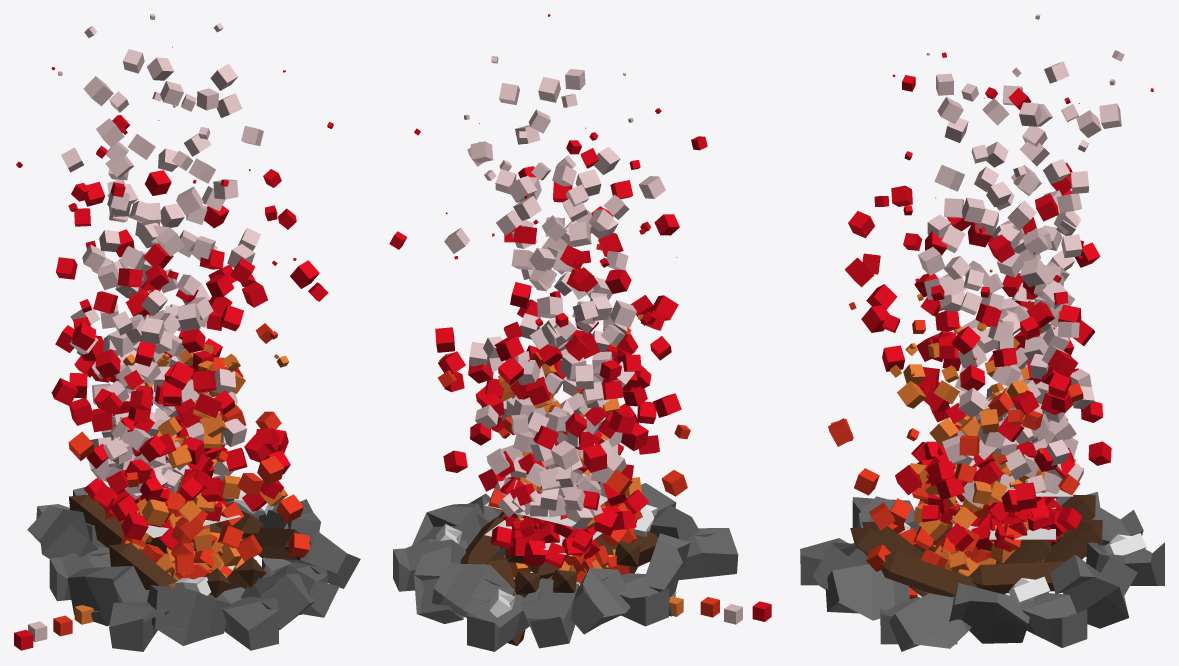
Rendered from FogataLP2.0.fbx.
3 views of the same model, side by side, from view 1: azimuth 30°, elevation 25°; view 2: azimuth 150°, elevation 25°; view 3: azimuth 270°, elevation 25° (orthographic). The views are drawn at different scales.
Visible parts, largest first — view 1: Cubo.017, Cubo.015, Cubo.004, Cubo.013, Cubo.016, Cubo.005, Cubo.007, Cubo.014, Cubo.029, Cubo.025, Cubo.006, Cubo.028 (+16 smaller); view 2: Cubo.013, Cubo.012, Cubo.018, Cubo.010, Cubo.011, Cubo.016, Cubo.015, Cubo.014, Cubo.008, Cubo.009, Cubo.017, Cubo.024 (+5 smaller); view 3: Cubo.008, Cubo.006, Cubo.010, Cubo.007, Cubo.009, Cubo.028, Cubo.024, Cubo.030, Cubo.011, Cubo.005, Cubo.018, Cubo.012 (+13 smaller).
Part boxes in pixels (x1,y1,x2,y2): Cubo.017: (147,585,230,645); Cubo.015: (67,565,144,626); Cubo.004: (221,587,278,650); Cubo.013: (27,506,98,558); Cubo.016: (109,589,169,651); Cubo.005: (240,574,315,629); Cubo.007: (284,523,360,588); Cubo.014: (49,547,110,601); Cubo.029: (109,543,177,590); Cubo.025: (69,494,123,547); Cubo.006: (262,565,339,617); Cubo.028: (254,527,310,560); Cubo.013: (571,568,630,634); Cubo.012: (520,578,578,648); Cubo.018: (432,562,514,617); Cubo.010: (414,539,465,623); Cubo.011: (467,590,529,651); Cubo.016: (656,528,738,579); Cubo.015: (644,533,690,616); Cubo.014: (619,573,668,626); Cubo.008: (412,503,484,546); Cubo.009: (393,539,467,591); Cubo.017: (634,505,699,540); Cubo.024: (460,516,502,564); Cubo.008: (949,583,1032,643); Cubo.006: (825,564,909,620); Cubo.010: (1050,554,1129,628); Cubo.007: (889,593,971,651); Cubo.009: (1020,593,1087,647); Cubo.028: (880,551,977,597); Cubo.024: (968,561,1064,593); Cubo.030: (1043,519,1102,562); Cubo.011: (1100,542,1164,585); Cubo.005: (813,542,868,589); Cubo.018: (1086,542,1137,597); Cubo.012: (1068,505,1143,556).
Size of what is drawn, in the model's own units: 153 by 241 by 141.
